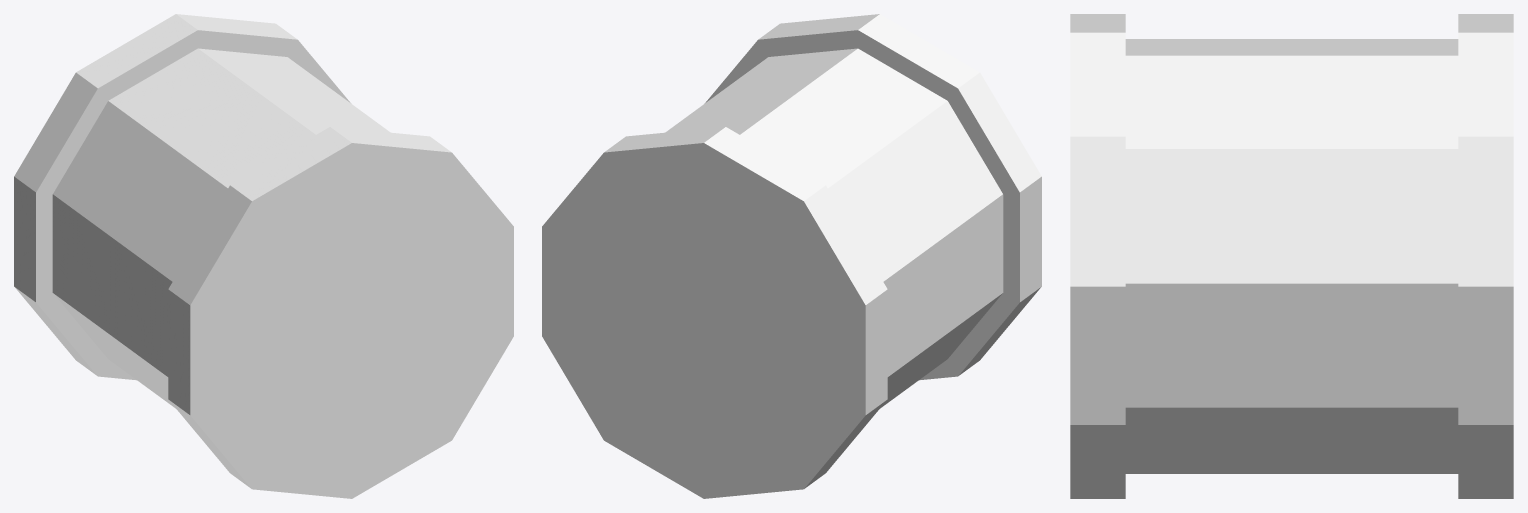
Rendered from Boss_Body.obj.
3 renders of one model, left to right at view 1: azimuth 30°, elevation 25°; view 2: azimuth 150°, elevation 25°; view 3: azimuth 270°, elevation 25°, orthographic. The views are drawn at different scales.
Visible parts, largest first — view 1: 円柱; view 2: 円柱; view 3: 円柱.
Part boxes in pixels (box(x1,y1,x2,y2)): 円柱: box(14, 14, 513, 498); 円柱: box(542, 14, 1041, 498); 円柱: box(1070, 14, 1513, 498).
Bounding box in the file's own units: 1.06 × 1.11 × 1.
1 material, 1 textured.
